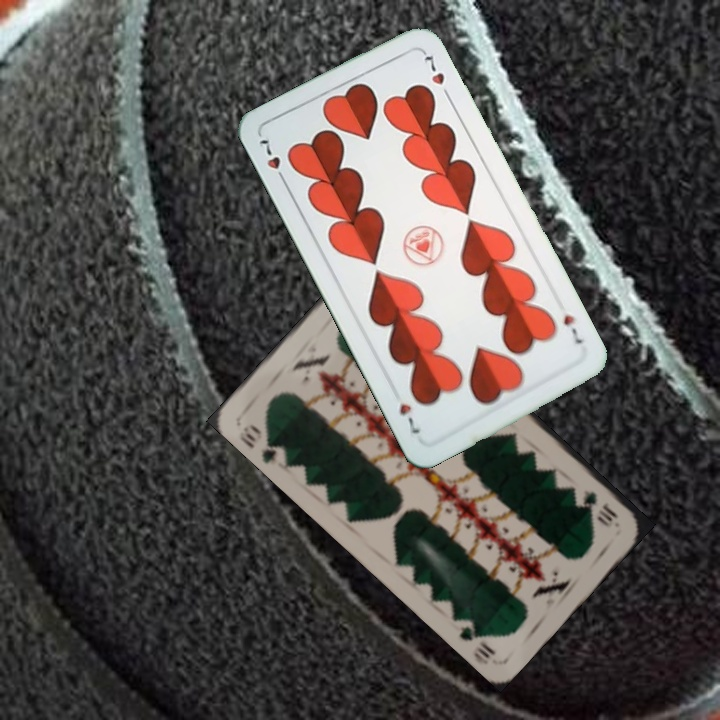G10: (234, 420, 289, 466), (579, 485, 622, 527)
H7: (255, 135, 290, 188), (559, 310, 585, 347)
